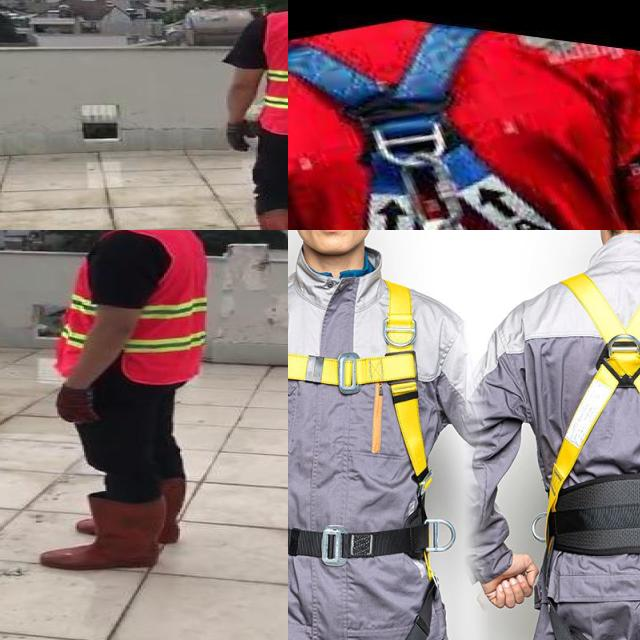Harness: (288, 25, 562, 230), (288, 276, 437, 570), (534, 269, 640, 570)
boots: (41, 496, 164, 570), (81, 475, 187, 543)
hand_glove: (52, 387, 95, 424), (224, 121, 251, 150)
person: (26, 230, 220, 579), (220, 0, 288, 230)
vest: (39, 230, 206, 384)
